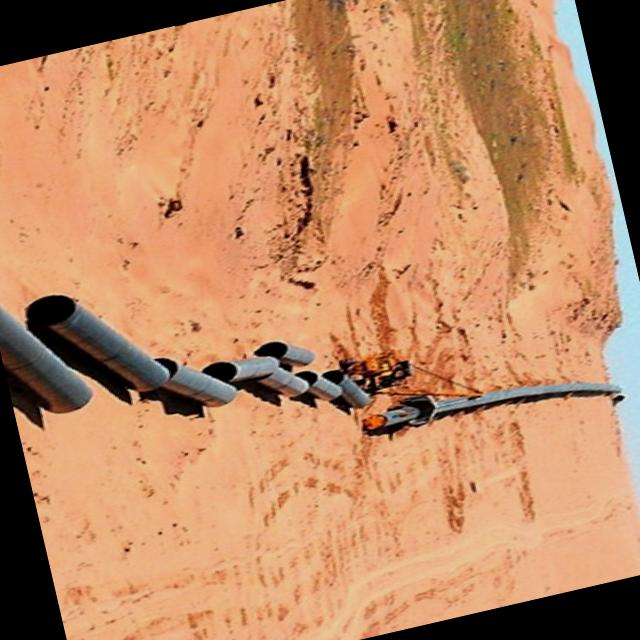gas: (27, 297, 168, 391), (363, 382, 621, 432), (0, 307, 92, 413), (155, 357, 236, 407), (202, 356, 279, 383)
